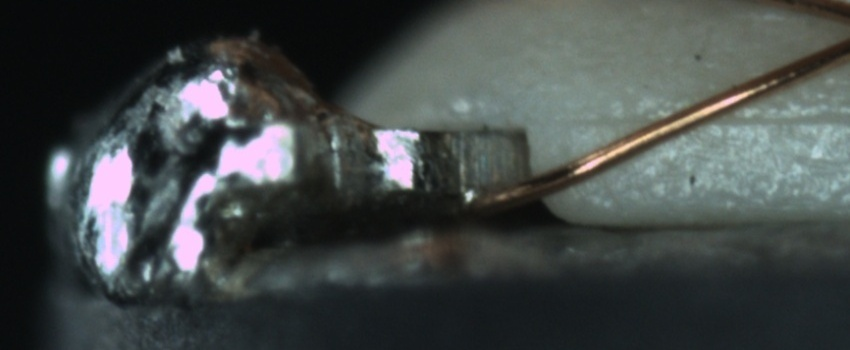DL: (555, 89, 849, 153)
